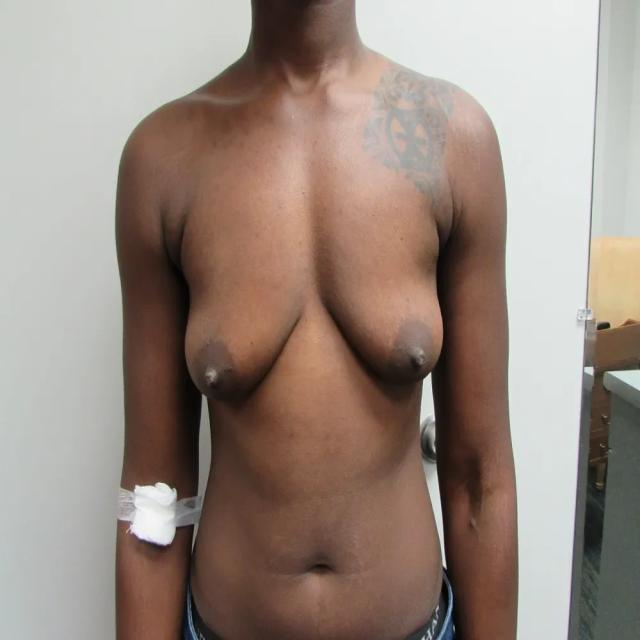Seno ileso: (178, 207, 310, 419), (314, 209, 450, 403)
